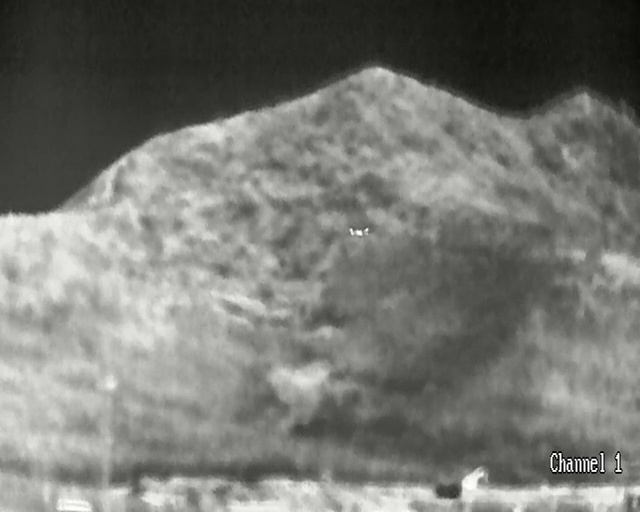uav: (348, 227, 368, 236)
